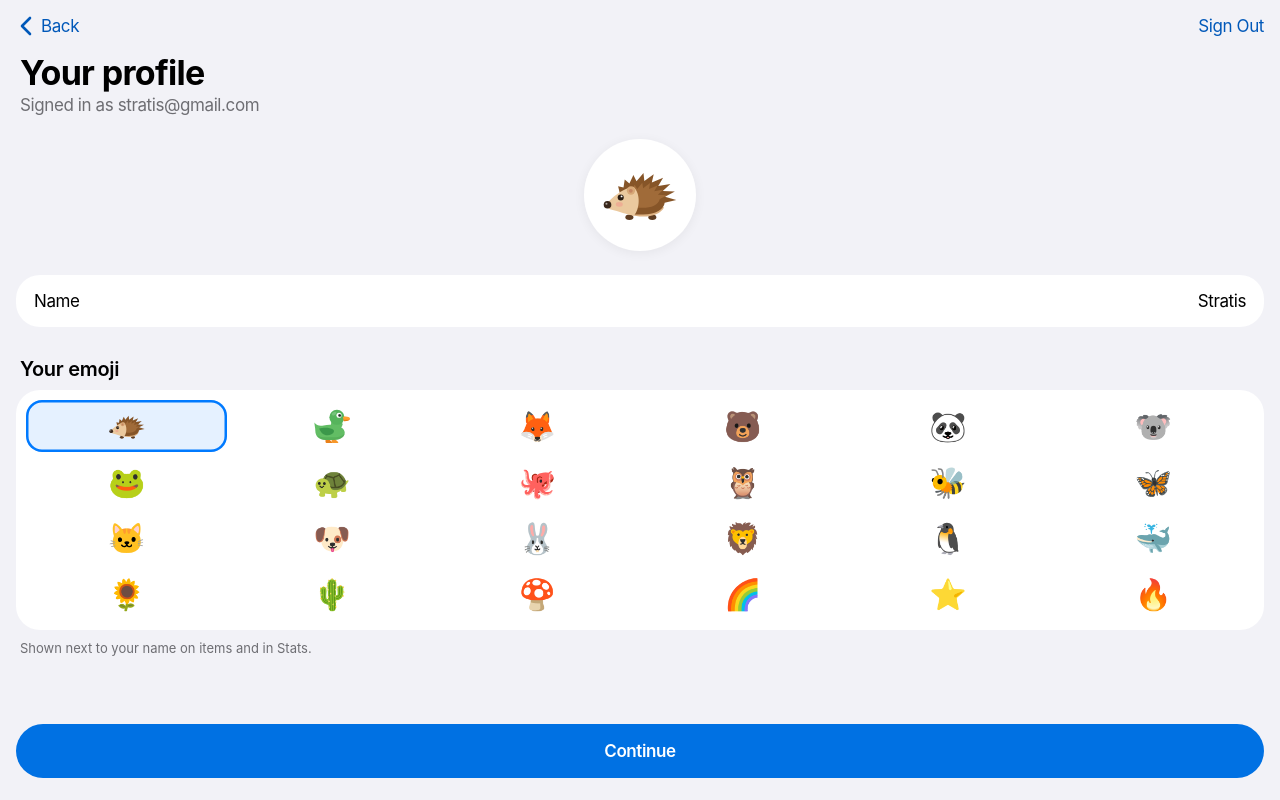
Bring over the home from this phone › Start Fresh asks first; then Profile (with Back to the offer), then Create home
Earlier steps of the test are not shown.
Click the button "Continue": [640, 751] box x1=16 y1=724 x2=1264 y2=778
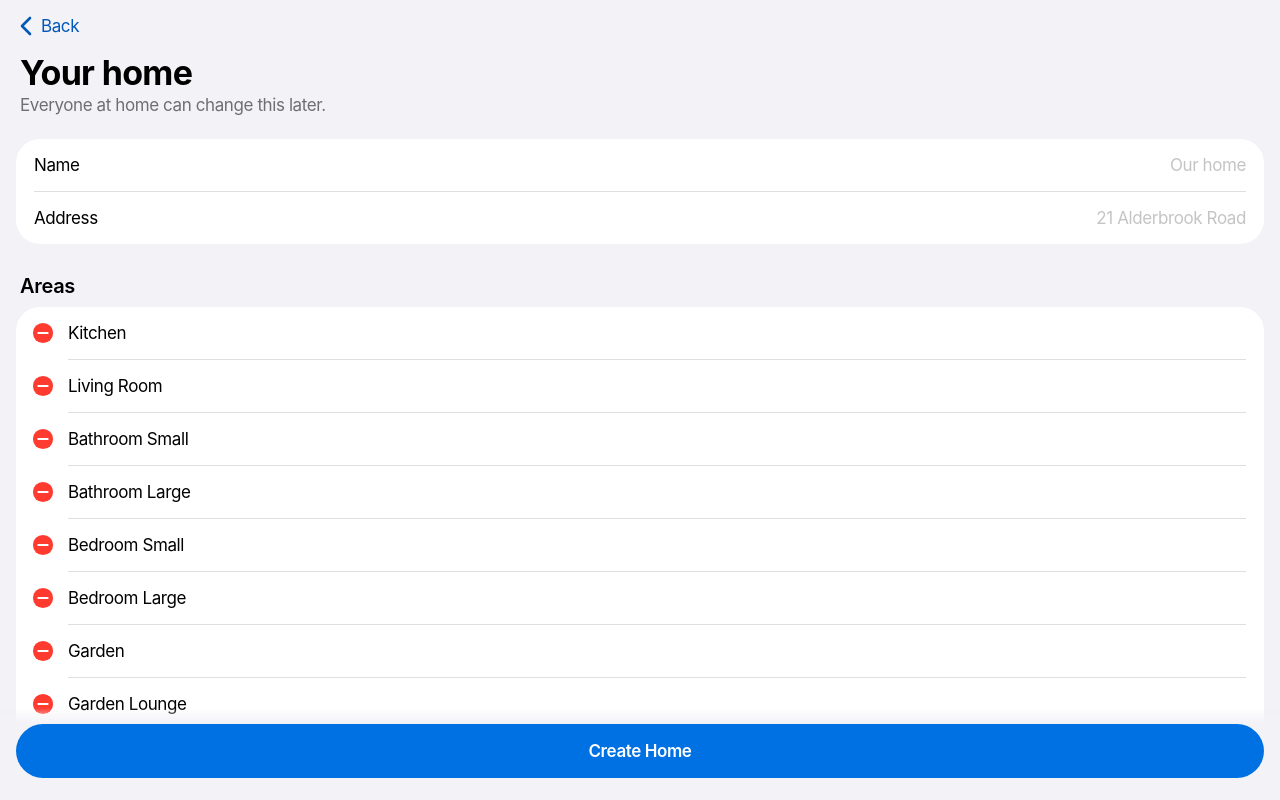
Expected: the heading "Your home" is shown, x1=20 y1=52 x2=192 y2=93
